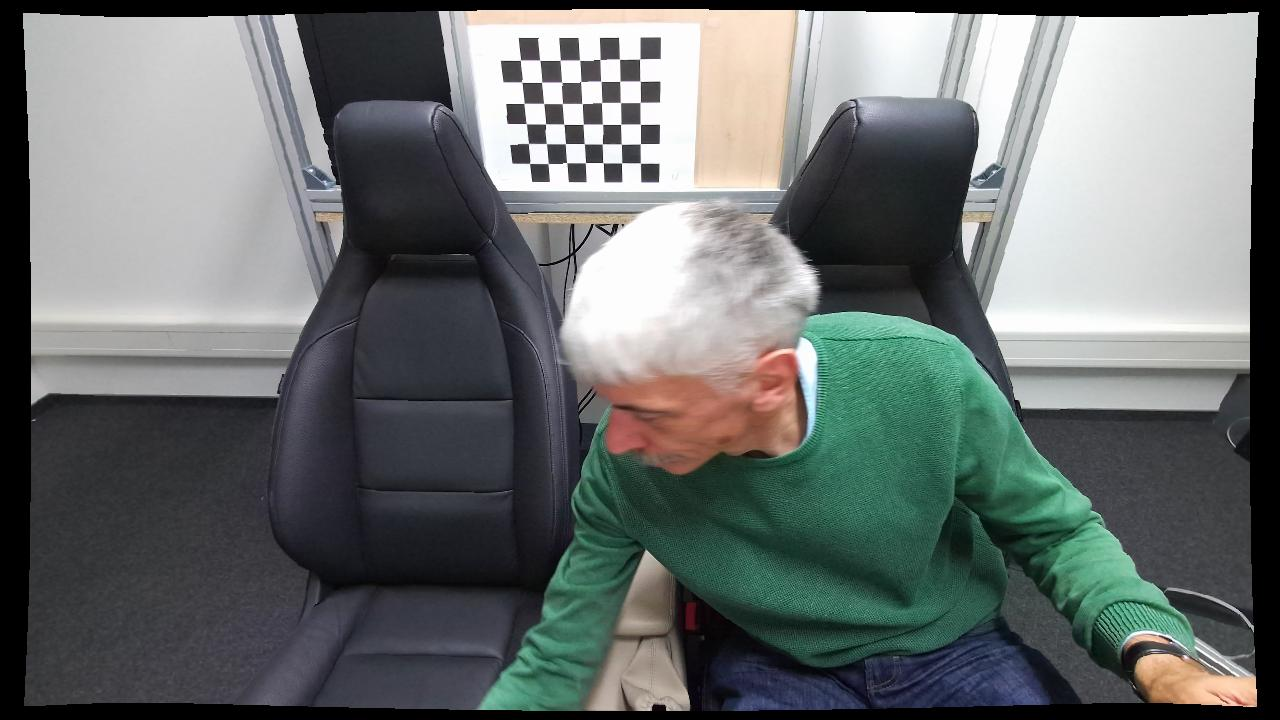Distracted: (470, 198, 1083, 711)
